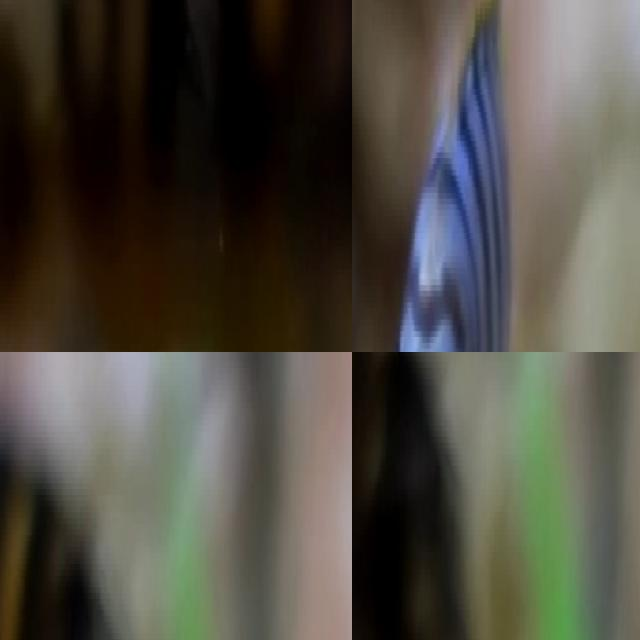fish: (0, 0, 352, 352), (352, 352, 469, 640), (0, 443, 162, 640)
